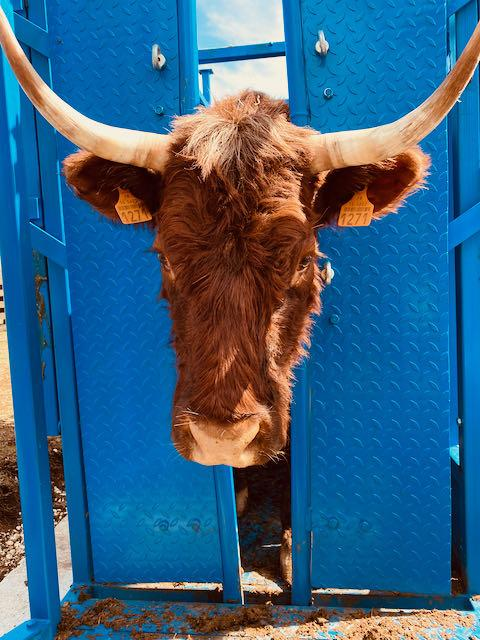muzzles: (162, 412, 298, 472)
